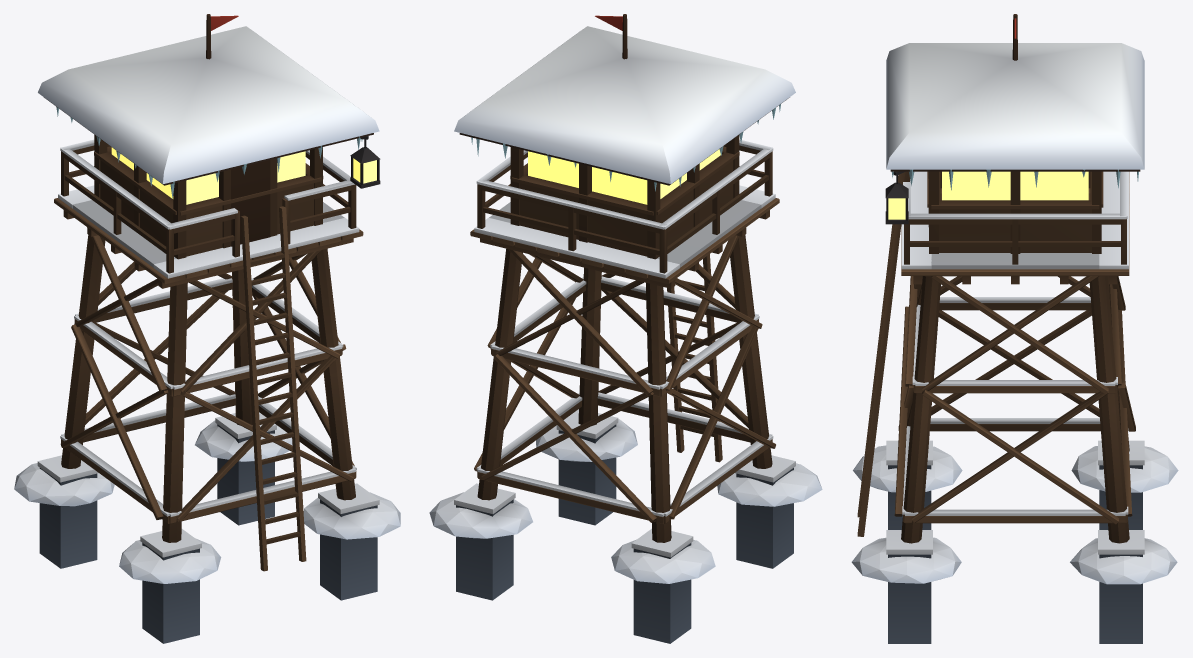
The model's file is watchtower.glb.
3 views of the same model, side by side, from view 1: azimuth 30°, elevation 25°; view 2: azimuth 150°, elevation 25°; view 3: azimuth 270°, elevation 25° (orthographic). The views are drawn at different scales.
Parts seen in each view (by area): view 1: watchtower; view 2: watchtower; view 3: watchtower.
Boxes of the visible parts, bbox=[...] form: watchtower: bbox=[14, 14, 400, 643]; watchtower: bbox=[429, 14, 822, 643]; watchtower: bbox=[851, 14, 1178, 643].
Size of the model in its own units: 5.96 by 11.7 by 6.03.
